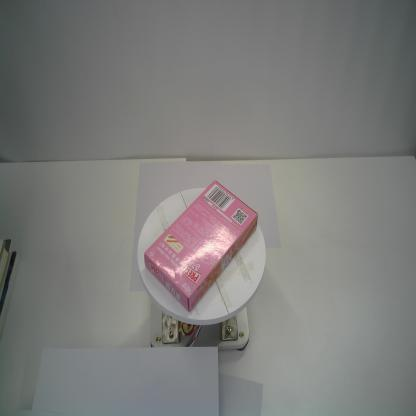Dessert: (143, 178, 258, 313)
